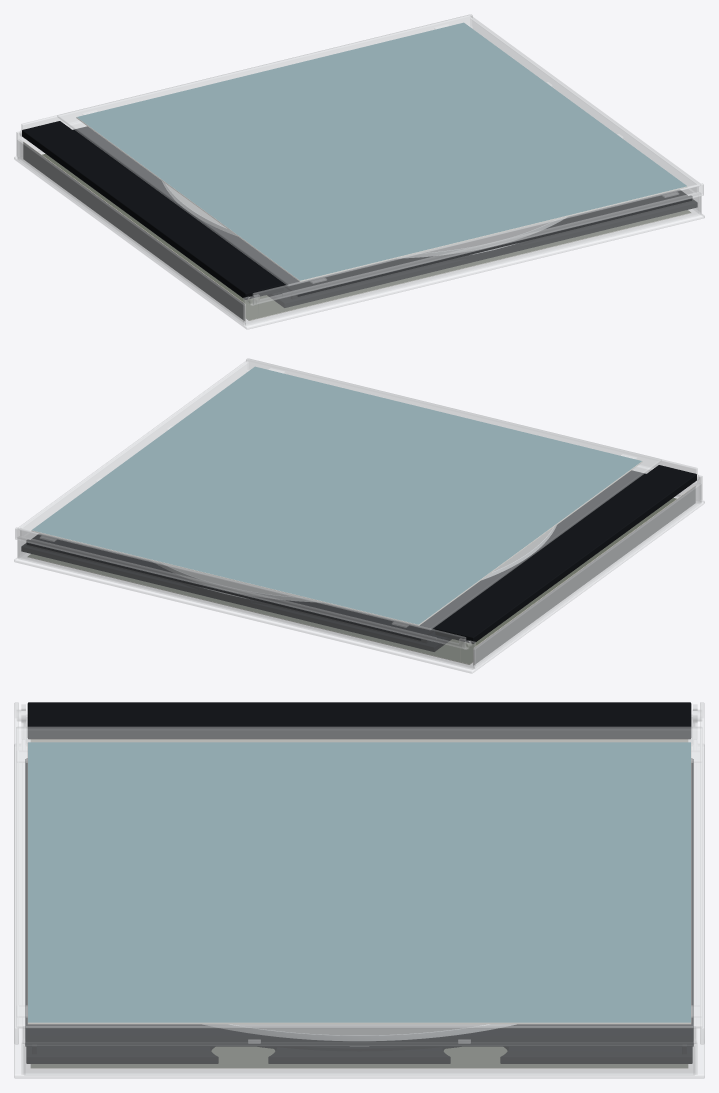
Rendered from jewel-swing-2.glb.
3 views of the same model, one above another, from view 1: azimuth 30°, elevation 25°; view 2: azimuth 150°, elevation 25°; view 3: azimuth 270°, elevation 25° (orthographic). The views are drawn at different scales.
Visible parts, largest first — view 1: Lid_Hinge_Y__Polystyrene_Clear.001, Booklet_paper, Fixed_Base_And_Tray__Polystyrene_Clear.001, Fixed_spine_foundation, Double_sided_swing_frame, Spine_card_return, Fixed_Base_And_Tray__Tray_Graphite.002, Rear_card, CD_reflective_ring; view 2: Lid_Hinge_Y__Polystyrene_Clear.001, Booklet_paper, Fixed_Base_And_Tray__Polystyrene_Clear.001, Fixed_spine_foundation, Double_sided_swing_frame, Spine_card_return, Fixed_Base_And_Tray__Tray_Graphite.002, Rear_card, CD_reflective_ring; view 3: Lid_Hinge_Y__Polystyrene_Clear.001, Booklet_paper, Fixed_Base_And_Tray__Polystyrene_Clear.001, Fixed_spine_foundation, Double_sided_swing_frame, Fixed_Base_And_Tray__Tray_Graphite.002, Rear_card, CD_reflective_ring, Spine_card_return.
Part boxes in pixels (x1,y1,x2,y2): Lid_Hinge_Y__Polystyrene_Clear.001: (19,14,703,305); Booklet_paper: (76,22,687,281); Fixed_Base_And_Tray__Polystyrene_Clear.001: (14,121,704,329); Fixed_spine_foundation: (22,121,283,299); Double_sided_swing_frame: (73,126,691,296); Spine_card_return: (23,141,245,320); Fixed_Base_And_Tray__Tray_Graphite.002: (267,190,697,307); Rear_card: (42,154,691,320); CD_reflective_ring: (162,181,566,258); Lid_Hinge_Y__Polystyrene_Clear.001: (15,358,699,649); Booklet_paper: (31,366,642,625); Fixed_Base_And_Tray__Polystyrene_Clear.001: (14,465,704,673); Fixed_spine_foundation: (435,465,696,643); Double_sided_swing_frame: (27,470,645,640); Spine_card_return: (473,485,695,664); Fixed_Base_And_Tray__Tray_Graphite.002: (21,534,451,651); Rear_card: (27,498,676,664); CD_reflective_ring: (152,525,556,602); Lid_Hinge_Y__Polystyrene_Clear.001: (14,702,704,1044); Booklet_paper: (27,742,691,1024); Fixed_Base_And_Tray__Polystyrene_Clear.001: (14,704,704,1078); Fixed_spine_foundation: (27,702,691,739); Double_sided_swing_frame: (25,759,693,1046); Fixed_Base_And_Tray__Tray_Graphite.002: (26,758,692,1063); Rear_card: (30,1046,688,1068); CD_reflective_ring: (202,1024,516,1041); Spine_card_return: (30,739,688,742).
Size of the model in its own units: 0.142 by 0.0104 by 0.125.
